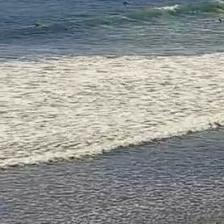surfer: (217, 18, 224, 23), (122, 1, 130, 5)
